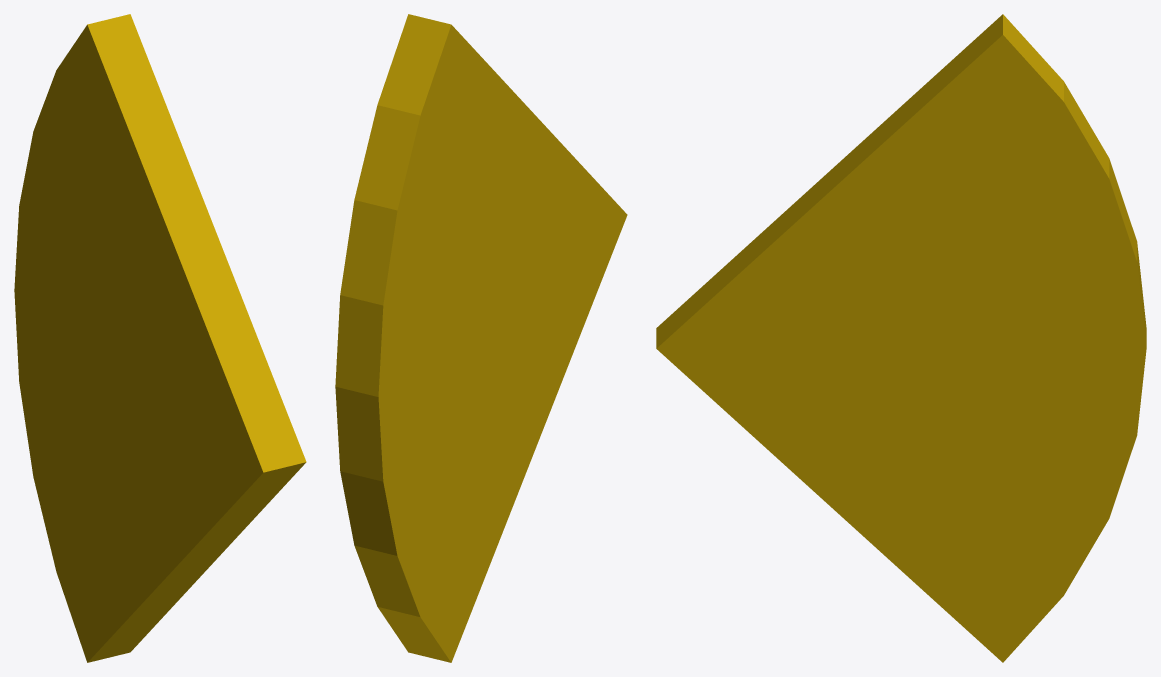
Rendered from Wedge.fbx.
The picture shows the model from 3 angles, left to right: view 1: azimuth 30°, elevation 25°; view 2: azimuth 150°, elevation 25°; view 3: azimuth 270°, elevation 25°; orthographic projection.
Visible parts, largest first — view 1: Circle; view 2: Circle; view 3: Circle.
Part boxes in pixels (bbox=[...]): Circle: bbox=[14, 14, 306, 662]; Circle: bbox=[335, 14, 627, 662]; Circle: bbox=[656, 14, 1146, 662].
Bounding box in the file's own units: 10 × 141 × 100.
